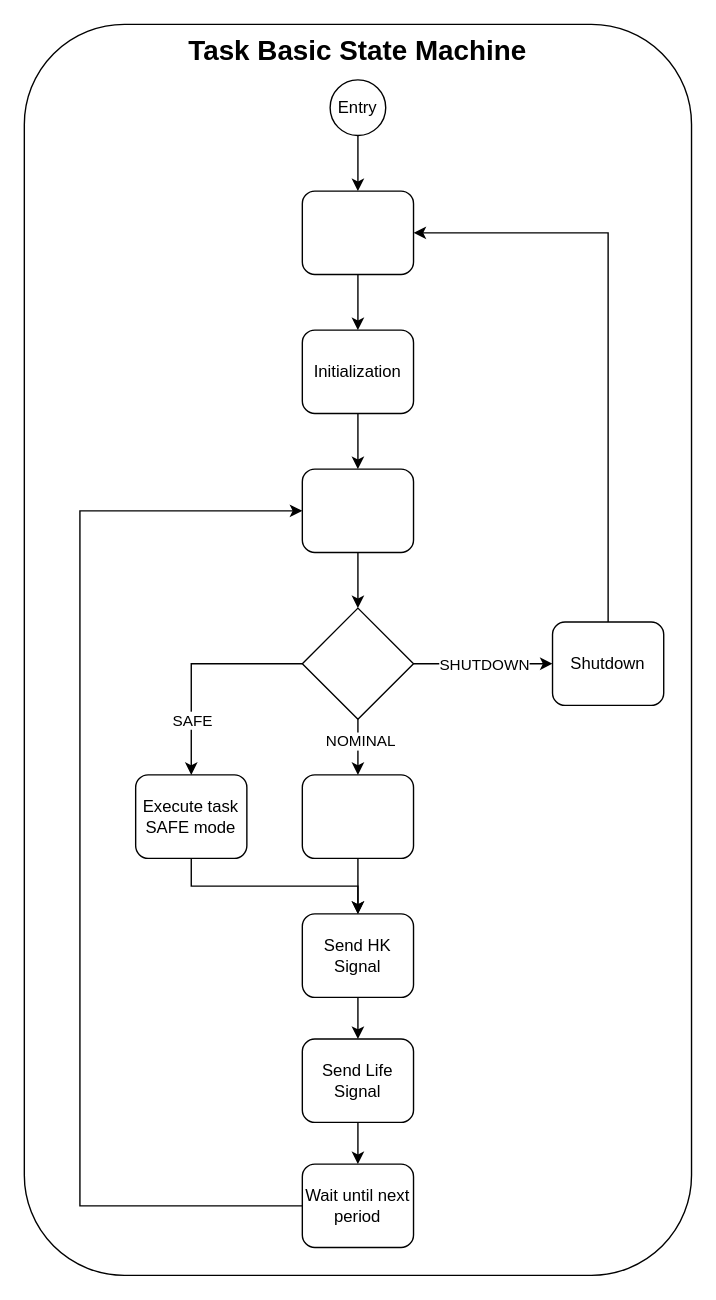
Some shapes in this 716 by 1300 pixel diagram are drawn without their labels. Each missing label, with the box of its shape:
Check Mode: (301, 468, 414, 553)
Execute task NOMINAL mode: (301, 774, 414, 858)
Mode: (301, 607, 414, 719)
Task Halted: (301, 190, 414, 275)
